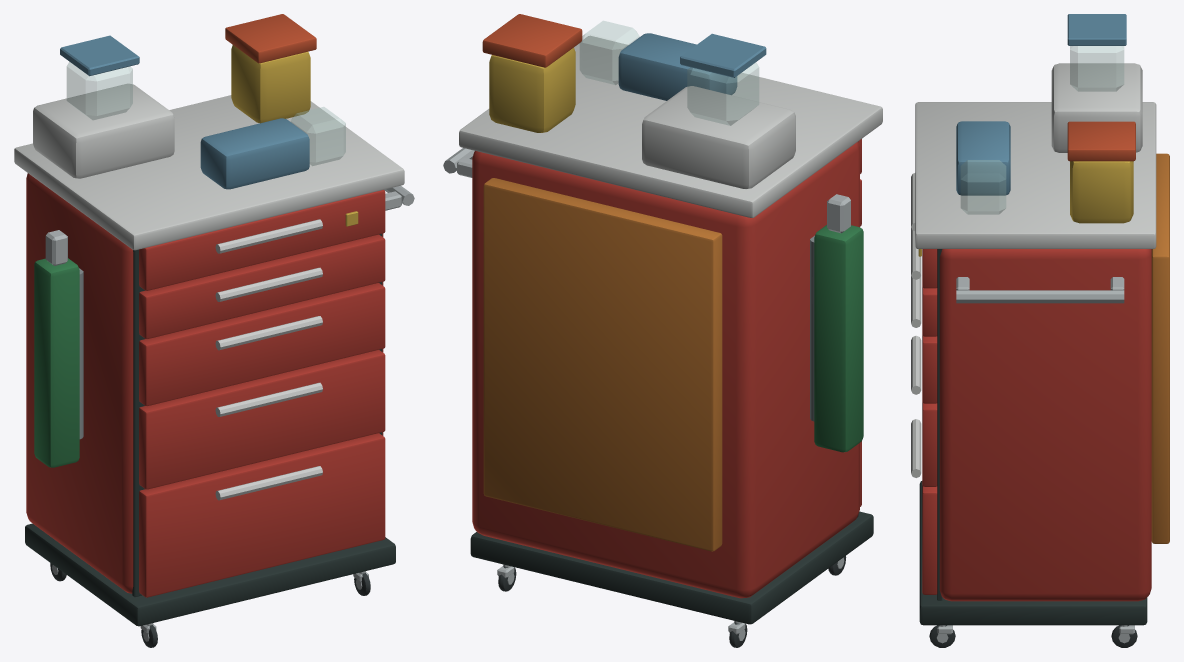
The model's file is crash-cart.glb.
The picture shows the model from 3 angles, left to right: view 1: azimuth 30°, elevation 25°; view 2: azimuth 150°, elevation 25°; view 3: azimuth 270°, elevation 25°; orthographic projection. The views are drawn at different scales.
Parts seen in each view (by area): view 1: crash-cart; view 2: crash-cart; view 3: crash-cart.
Part boxes in pixels (x1,y1,x2,y2): crash-cart: [14, 14, 414, 647]; crash-cart: [443, 14, 882, 647]; crash-cart: [911, 14, 1169, 647].
Size of the model in its own units: 0.85 by 1.29 by 0.5692.
